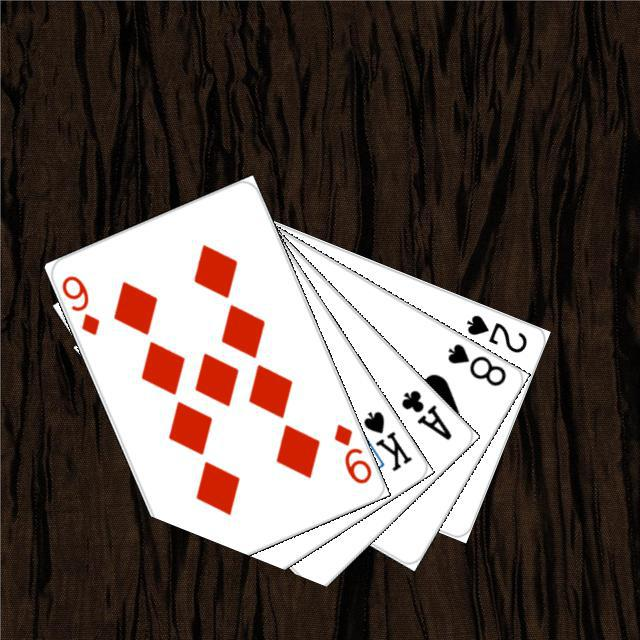2s: (461, 309, 529, 355)
8s: (442, 338, 508, 388)
9d: (56, 270, 102, 337), (329, 418, 373, 486)
Ac: (396, 384, 454, 442)
Ks: (358, 406, 414, 474)
